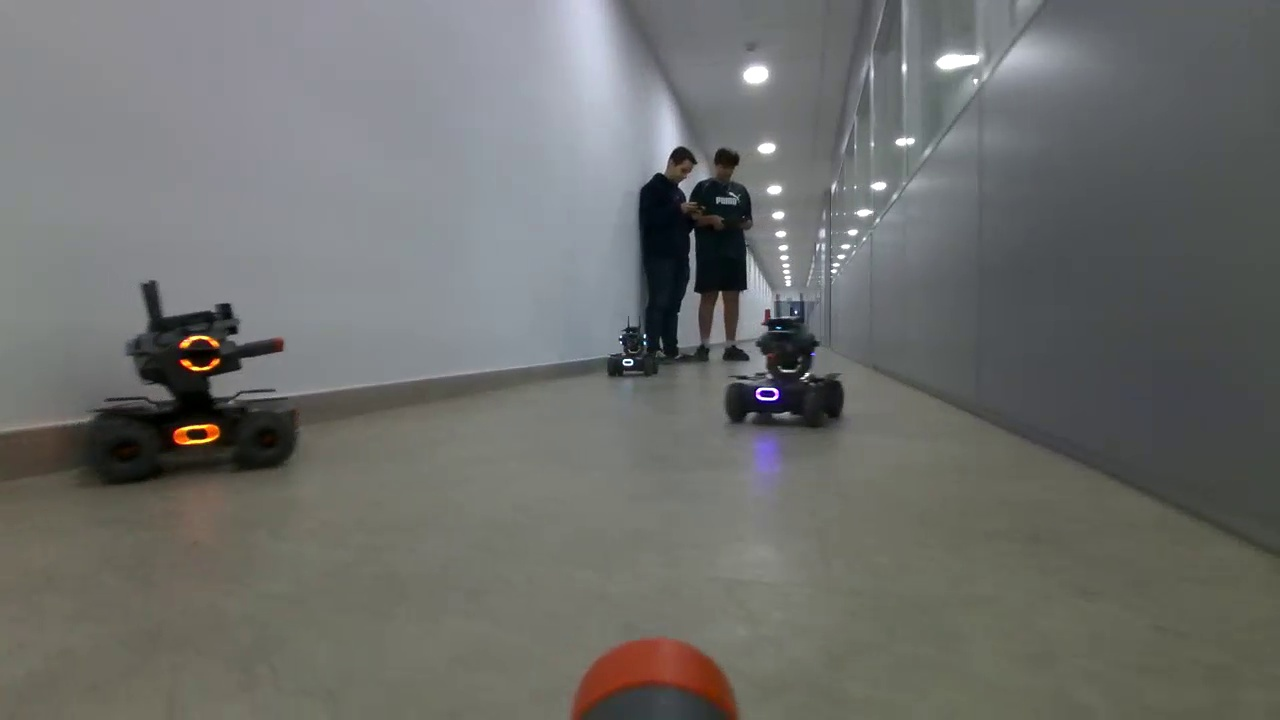robot: (84, 303, 301, 480), (725, 315, 845, 428), (607, 326, 658, 378)
